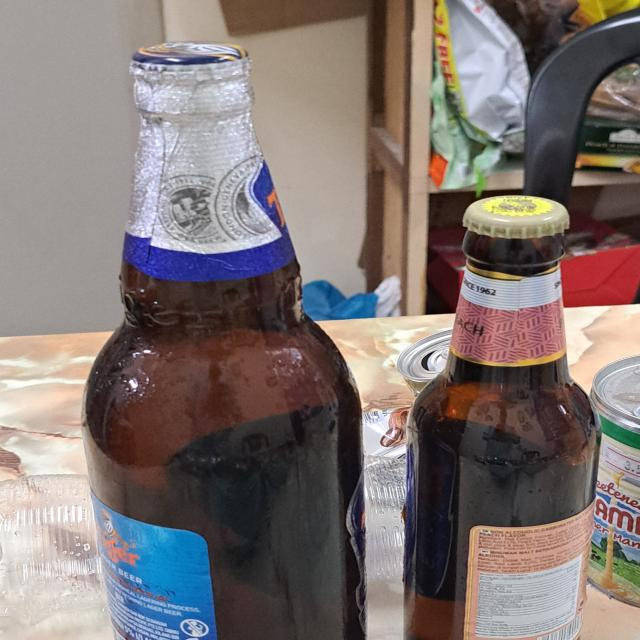can: (587, 352, 640, 609), (401, 323, 453, 390)
glass bottle: (83, 40, 369, 640)
